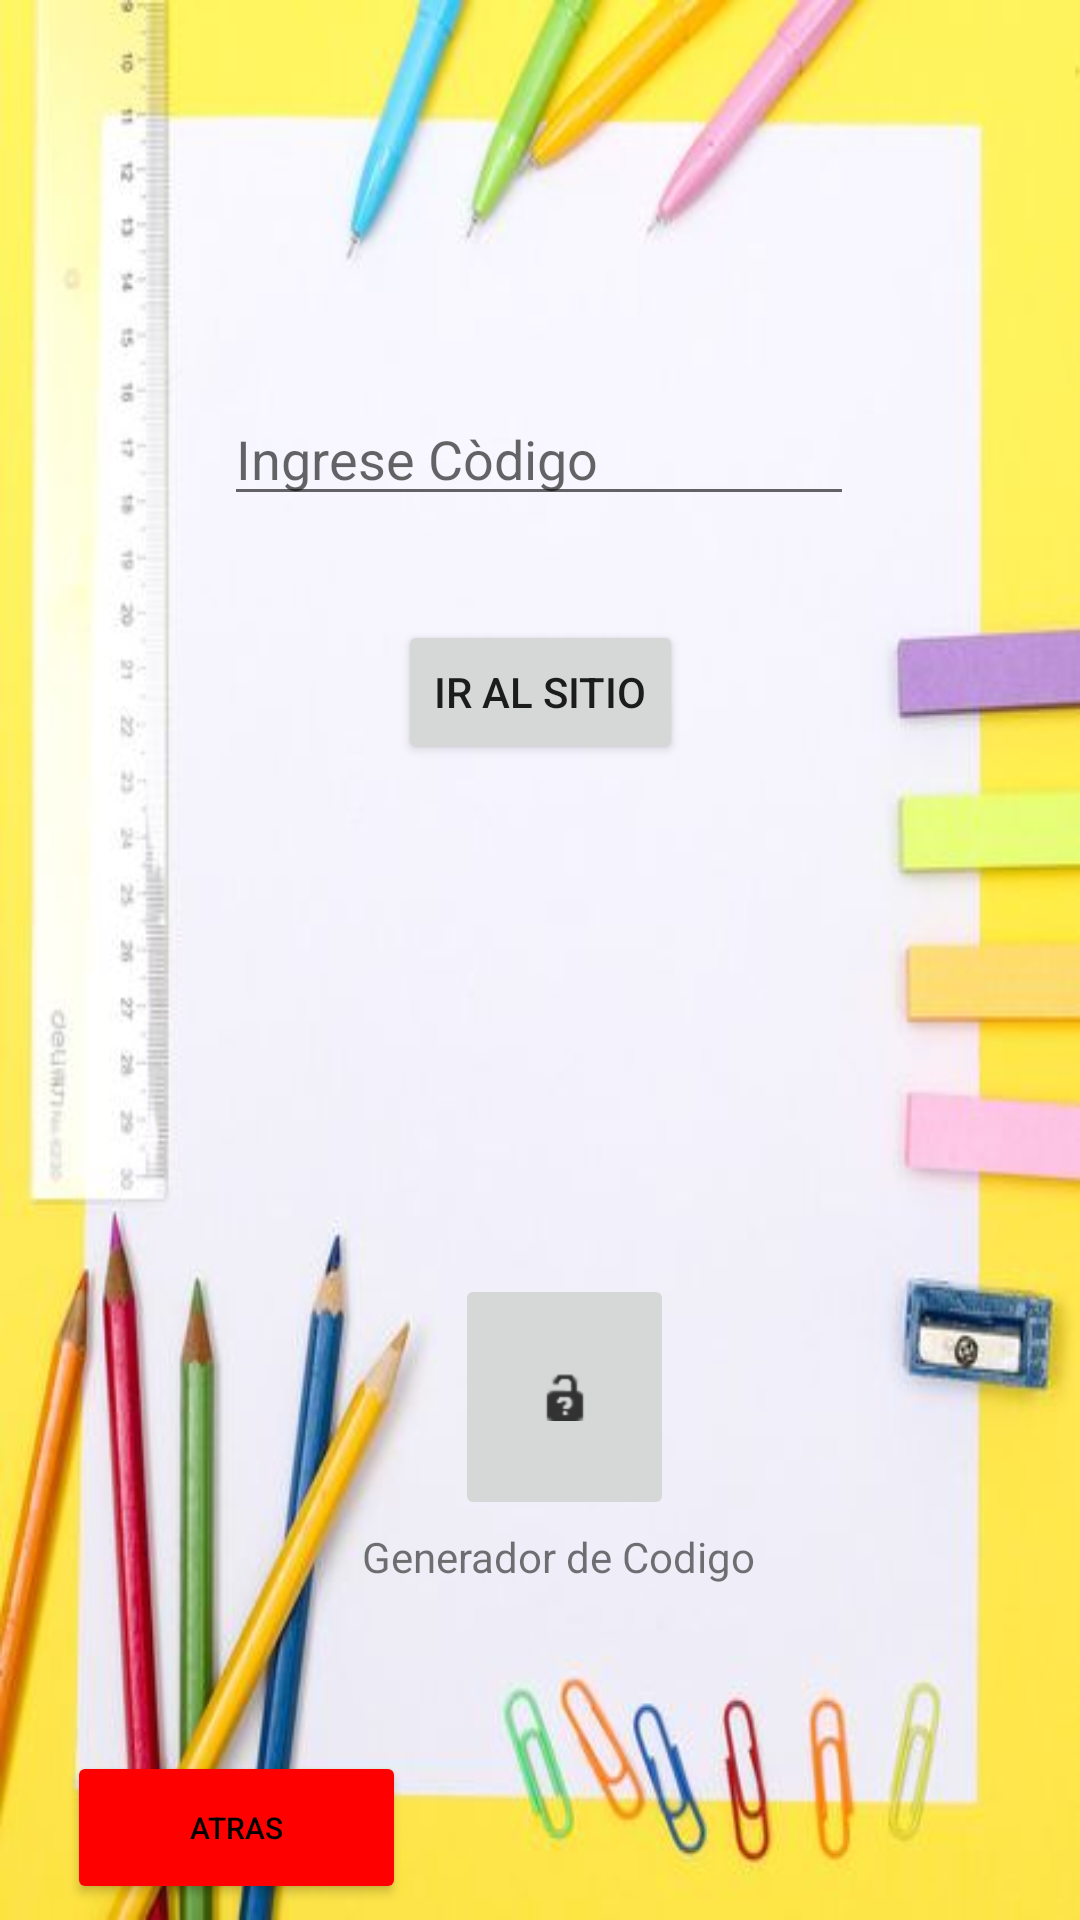

Icon bounding boxes for this 1080x1920 phone screenshot, format (x1, y1, x2, y2):
partial secure: (467, 1292, 662, 1502)
